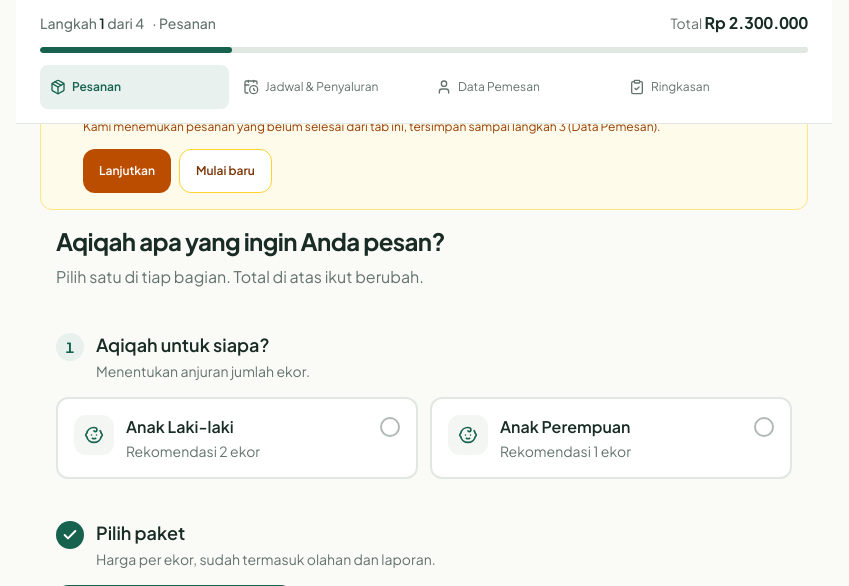
Test case: menawarkan pemulihan › "Lanjutkan" memasang isian dan melompat ke langkahnya
Click the button "Lanjutkan". click: coordinates (127, 171)
box: [83,149,171,193]
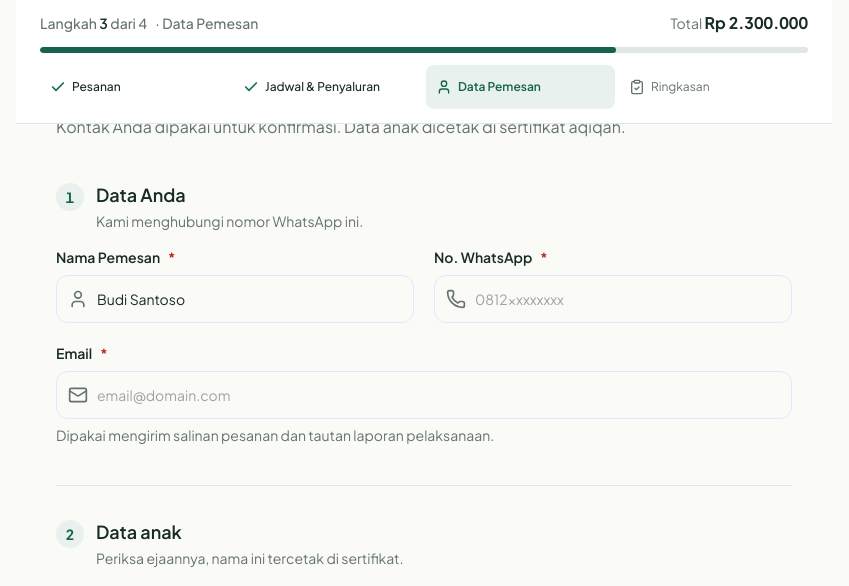
Now the field with id "co-name" holds "Budi Santoso", box [56,275,414,323]
Now the text "Lanjutkan isian sebelumnya" is gone
